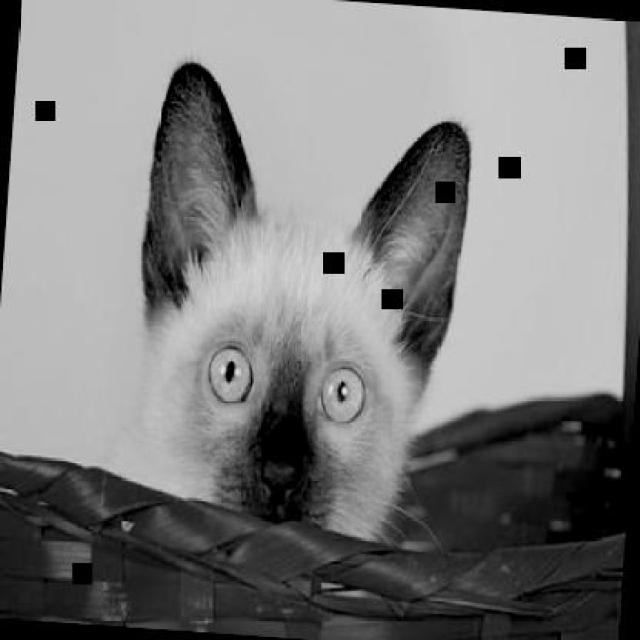cat: (128, 57, 478, 543)
